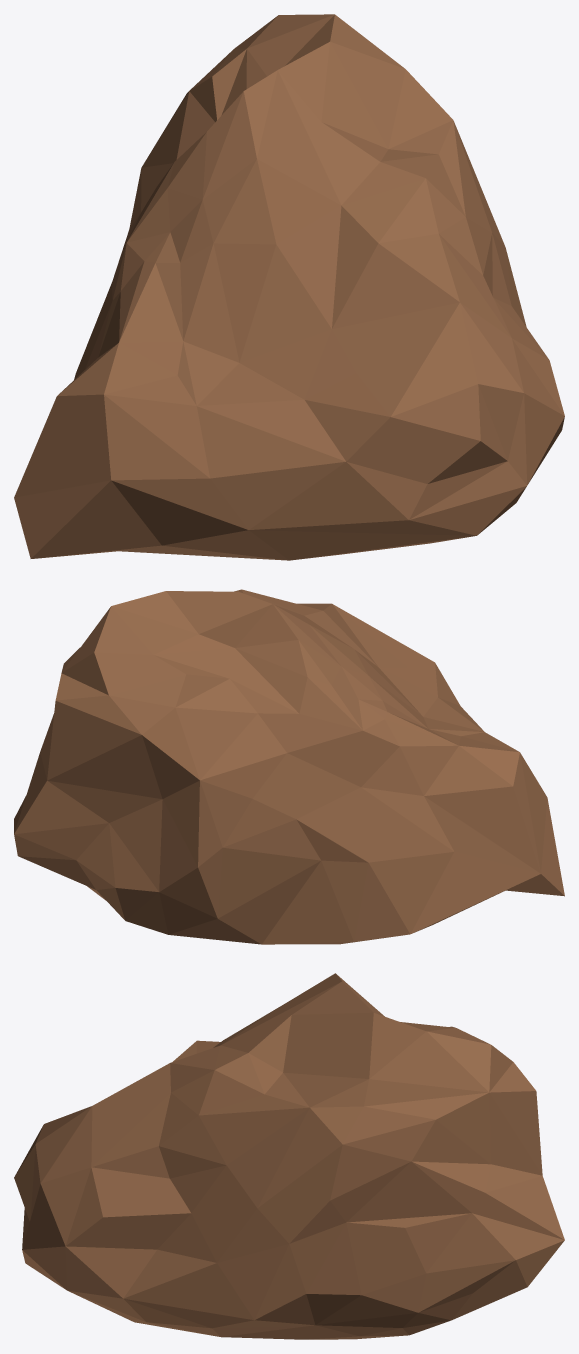
The model's file is rock02_dirt.fbx.
The picture shows the model from 3 angles, top to bottom: view 1: azimuth 30°, elevation 25°; view 2: azimuth 150°, elevation 25°; view 3: azimuth 270°, elevation 25°; orthographic projection. The views are drawn at different scales.
Parts seen in each view (by area): view 1: rock02_dirt_LOD0; view 2: rock02_dirt_LOD0; view 3: rock02_dirt_LOD0.
Part boxes in pixels (bbox=[...]): rock02_dirt_LOD0: bbox=[14, 14, 564, 560]; rock02_dirt_LOD0: bbox=[14, 589, 564, 944]; rock02_dirt_LOD0: bbox=[14, 973, 564, 1339].
Size of what is drawn, in the model's own units: 201 by 146 by 219.
